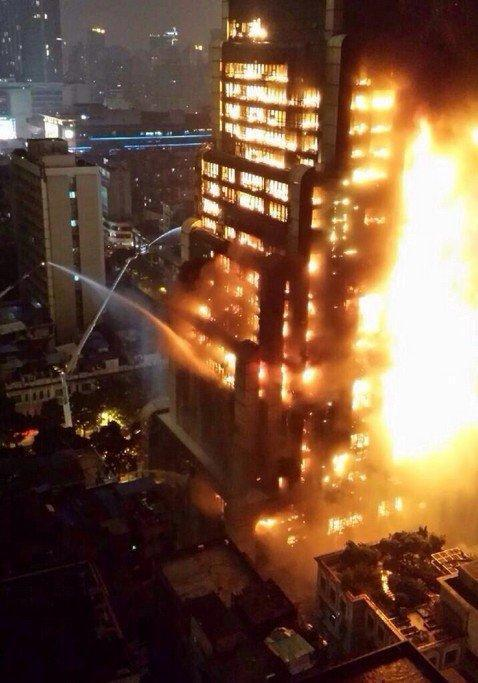fire: (172, 6, 469, 553)
